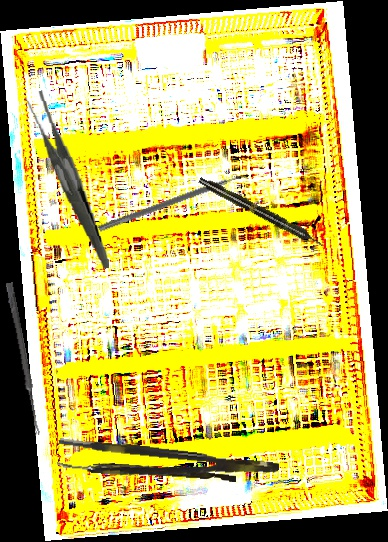Dressing Forceps: (25, 85, 110, 275)
Handpiece: (196, 174, 326, 251)
Pusher: (92, 462, 237, 482)
Spatula Surgical: (97, 169, 251, 239)
Surgical Spoon: (4, 282, 43, 436)
Tissue Forceps: (56, 437, 280, 492)
